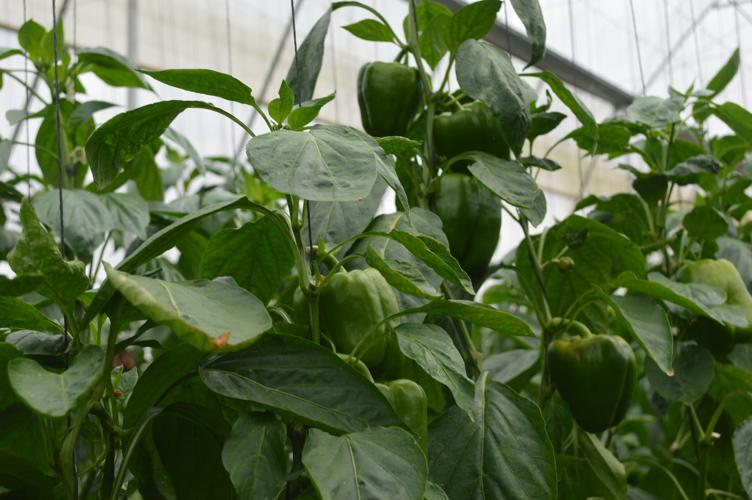BellPepper: (540, 328, 654, 444), (297, 262, 413, 376), (419, 172, 506, 285), (356, 51, 427, 144), (436, 94, 509, 158)
